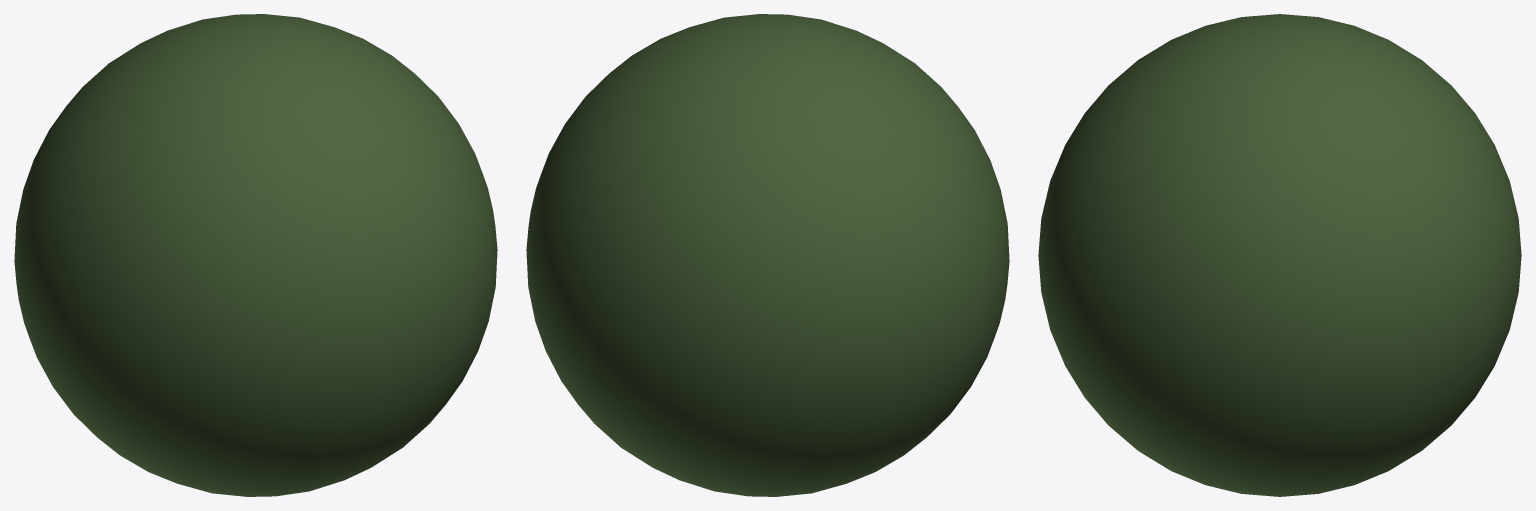
The model's file is p_mesh_trashbot_destruction_goopsphere.fbx.
3 views of the same model, side by side, from view 1: azimuth 30°, elevation 25°; view 2: azimuth 150°, elevation 25°; view 3: azimuth 270°, elevation 25° (orthographic).
Parts seen in each view (by area): view 1: trashbot_destruction_goopsphere; view 2: trashbot_destruction_goopsphere; view 3: trashbot_destruction_goopsphere.
Boxes of the visible parts, x1,y1,x2,y2 form: trashbot_destruction_goopsphere: [14, 14, 497, 496]; trashbot_destruction_goopsphere: [526, 14, 1009, 496]; trashbot_destruction_goopsphere: [1038, 14, 1521, 496].
Size of the model in its own units: 2.03 by 2.03 by 2.03.
